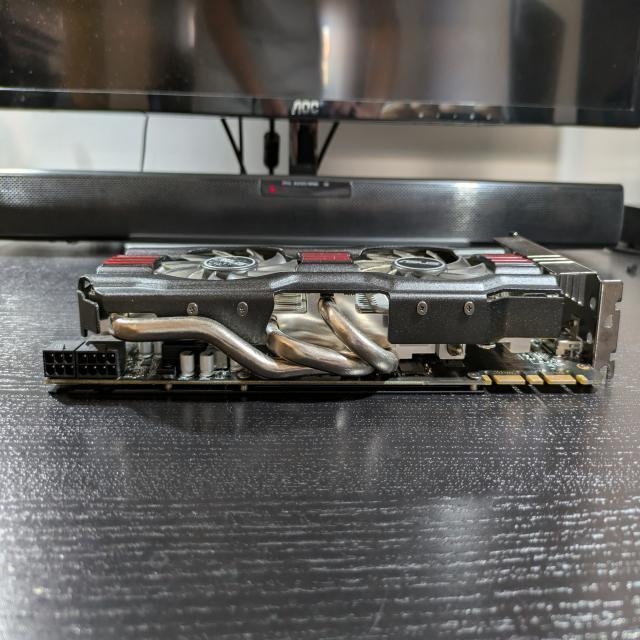GPU: (32, 219, 624, 398)
